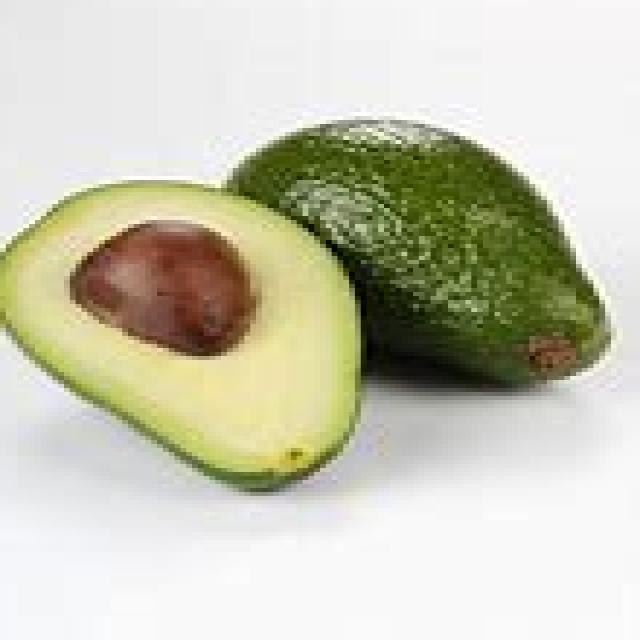avocado: (1, 185, 363, 494), (225, 117, 618, 397)
